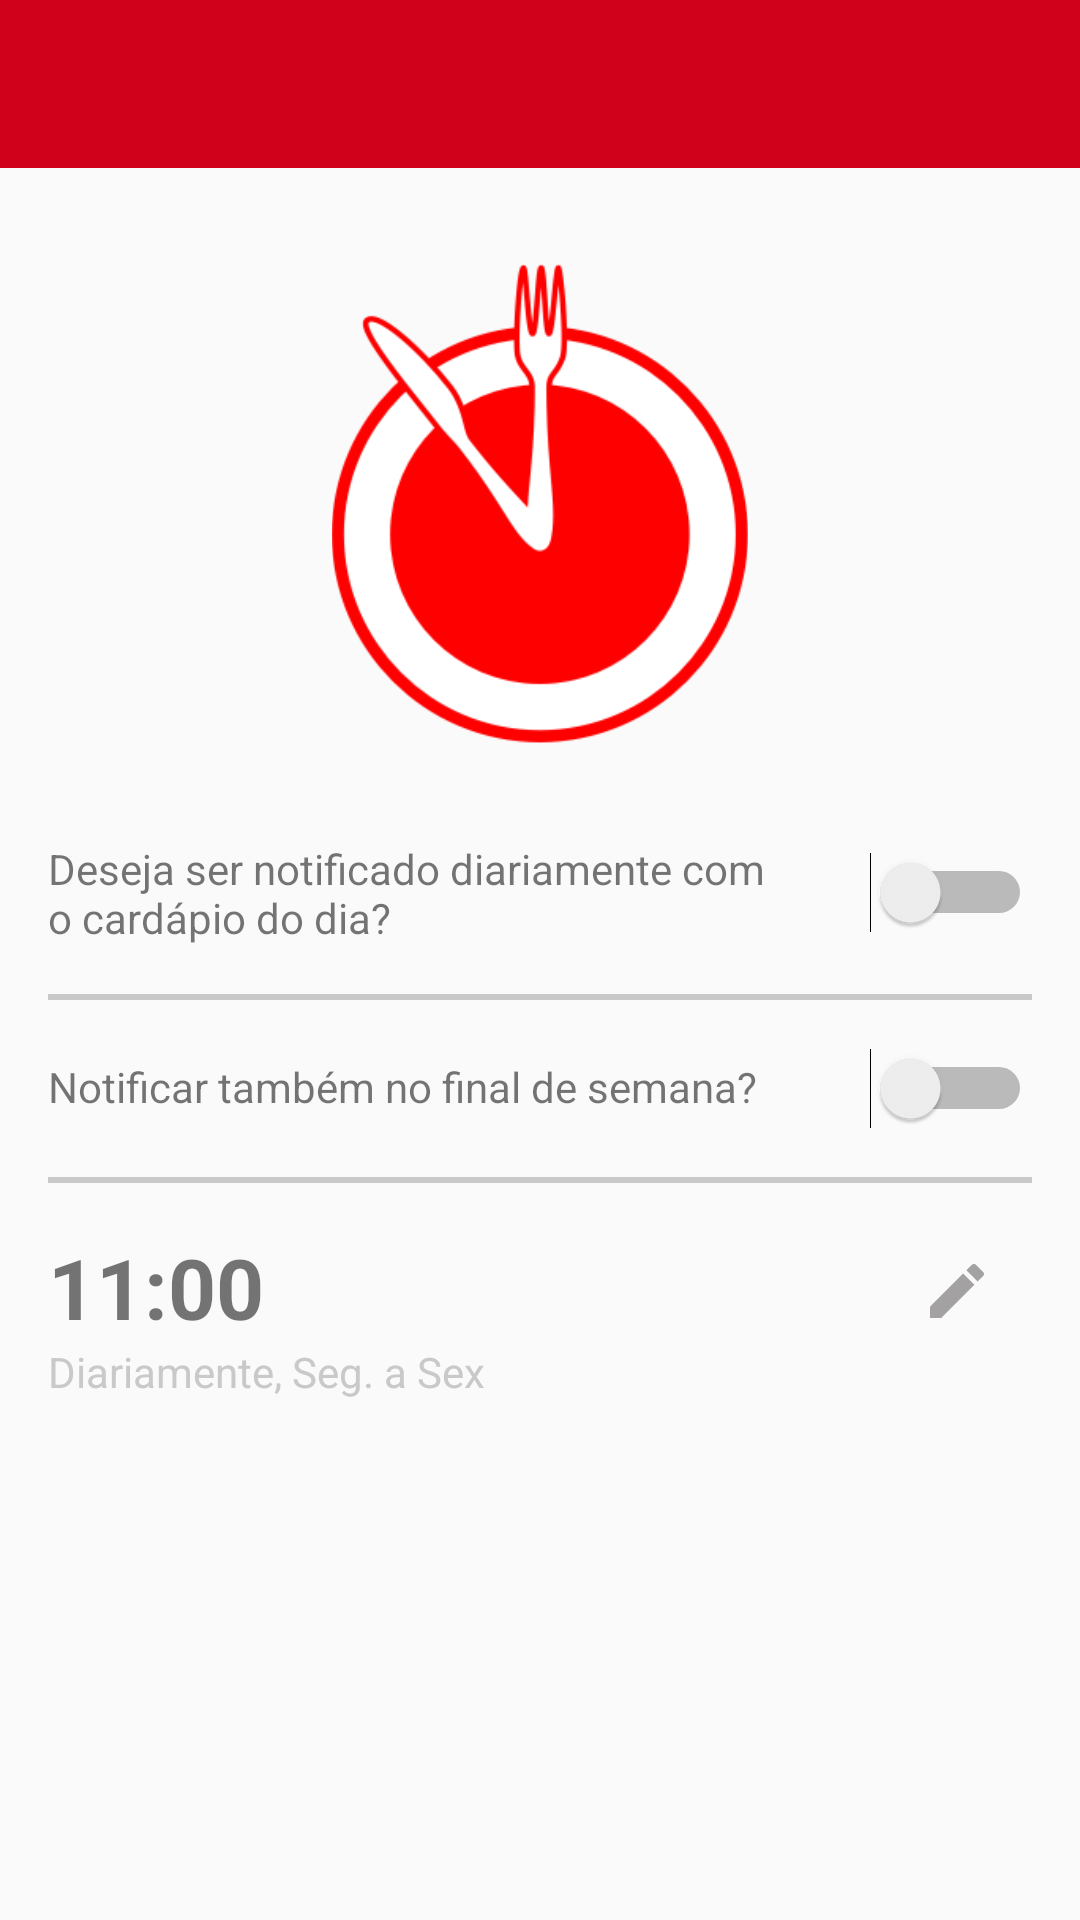

Screen size 1080×1920. Icon name, then its box in pixels as (x1, y1, x2, y2):
edit pencil: (930, 1264, 984, 1318)
